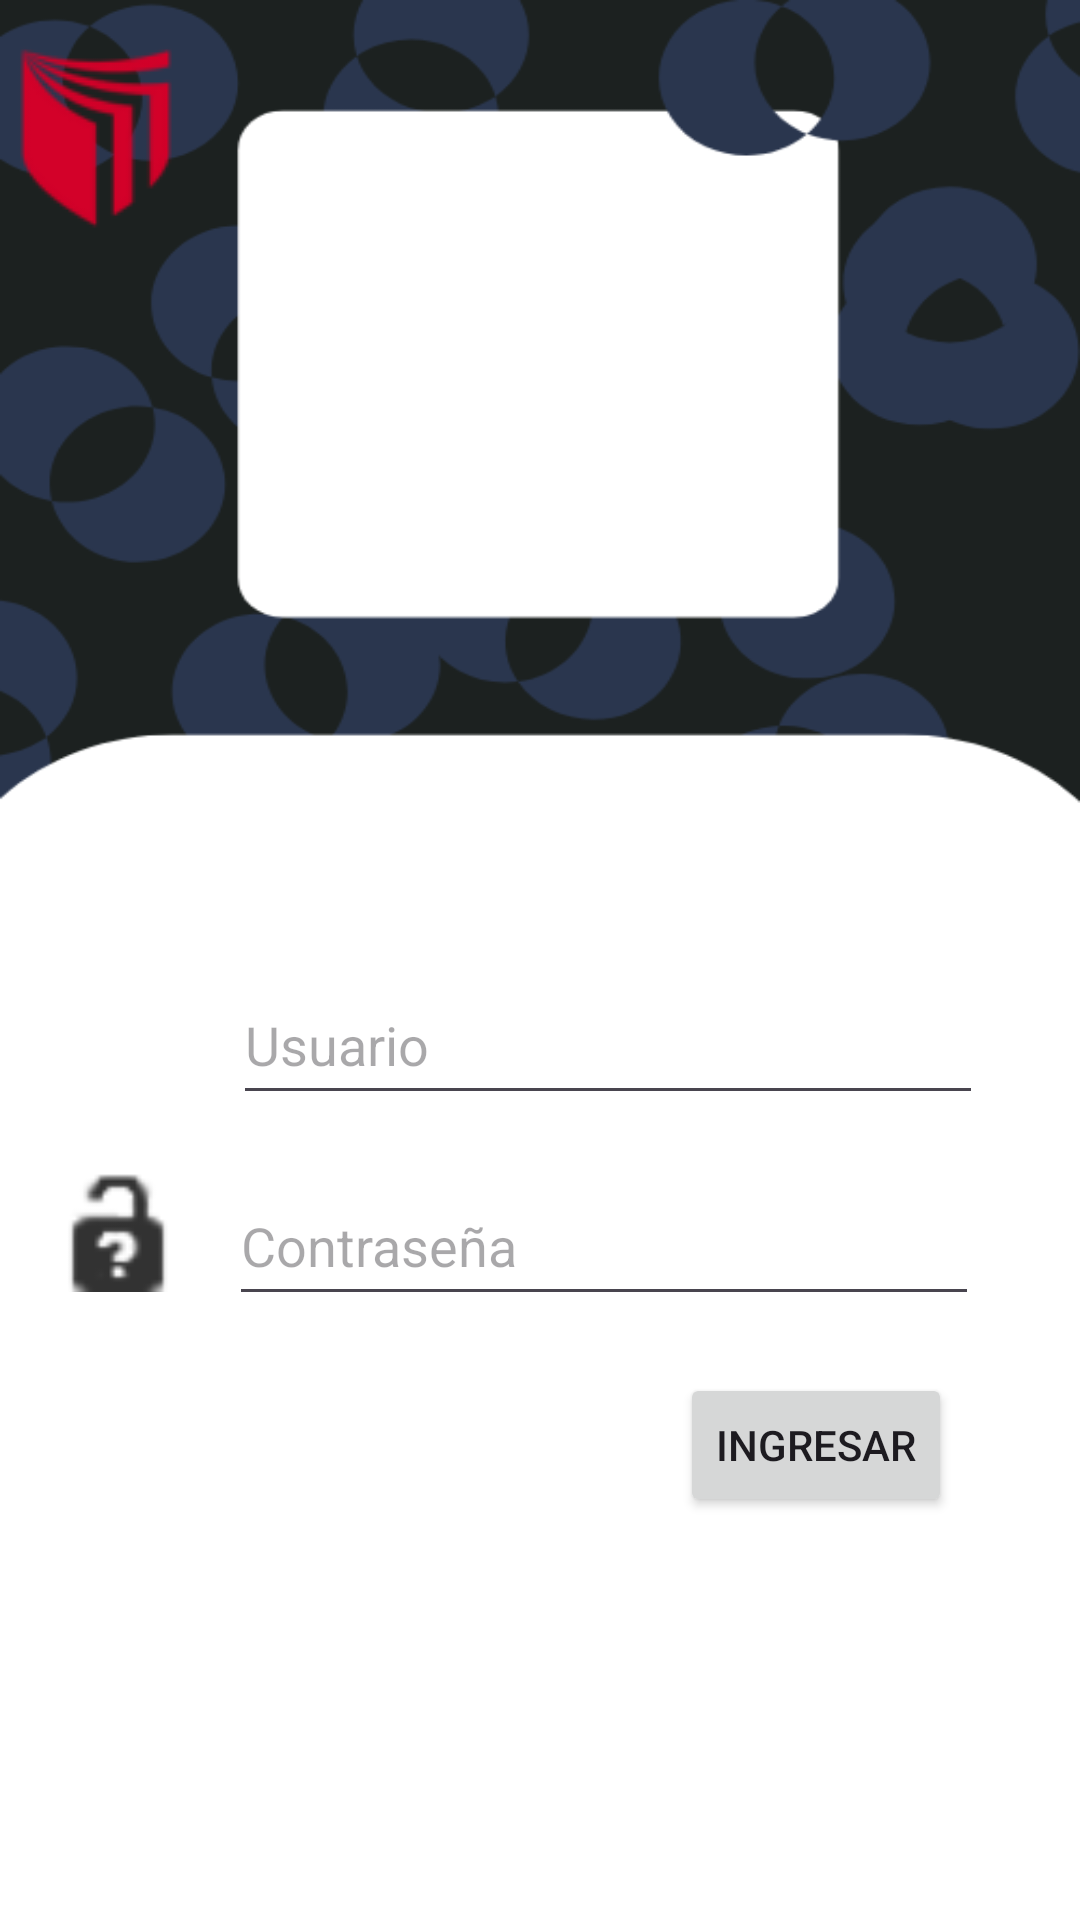

Where to tap for icons on this 1080w x 1920h app screen, as point (x, y):
An password icon: point (118, 1233)
